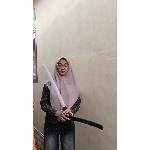Pedang: (39, 63, 70, 119)
